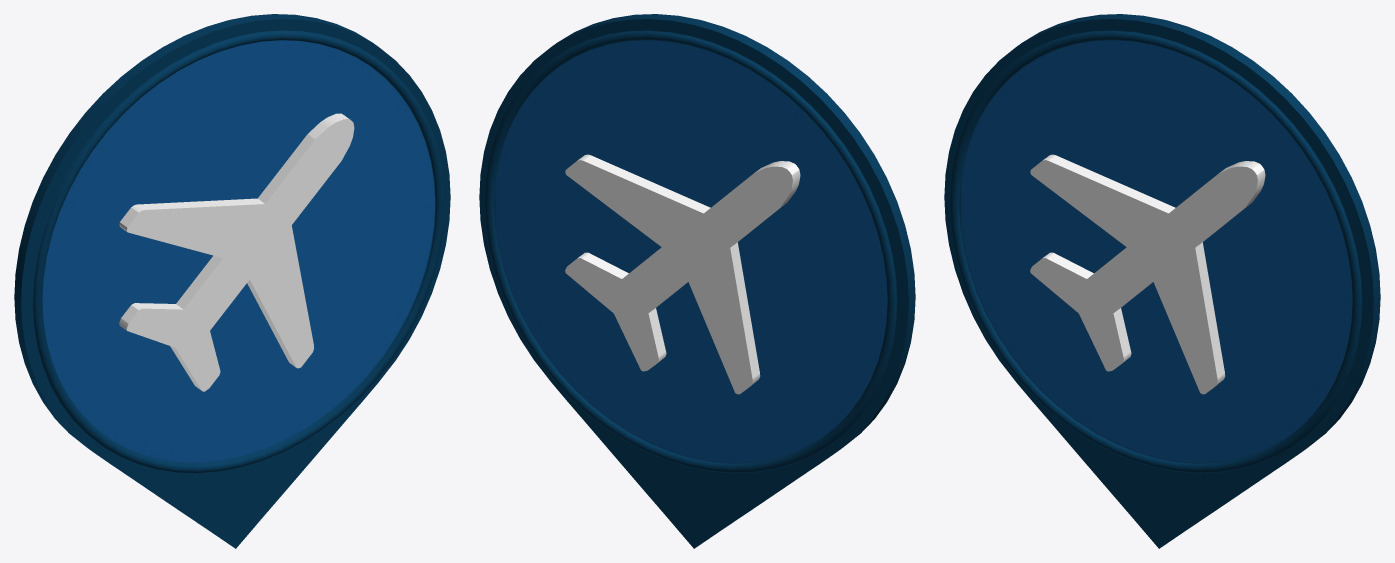
Rendered from Icon_04.dae.
The picture shows the model from 3 angles, left to right: view 1: azimuth 30°, elevation 25°; view 2: azimuth 150°, elevation 25°; view 3: azimuth 330°, elevation 25°; orthographic projection.
Visible parts, largest first — view 1: Icon__04; view 2: Icon__04; view 3: Icon__04.
Part boxes in pixels (<box>): Icon__04: <box>14,14,450,548</box>; Icon__04: <box>479,14,915,548</box>; Icon__04: <box>944,14,1380,548</box>.
Bounding box in the file's own units: 20.03 × 23.35 × 2.14.
